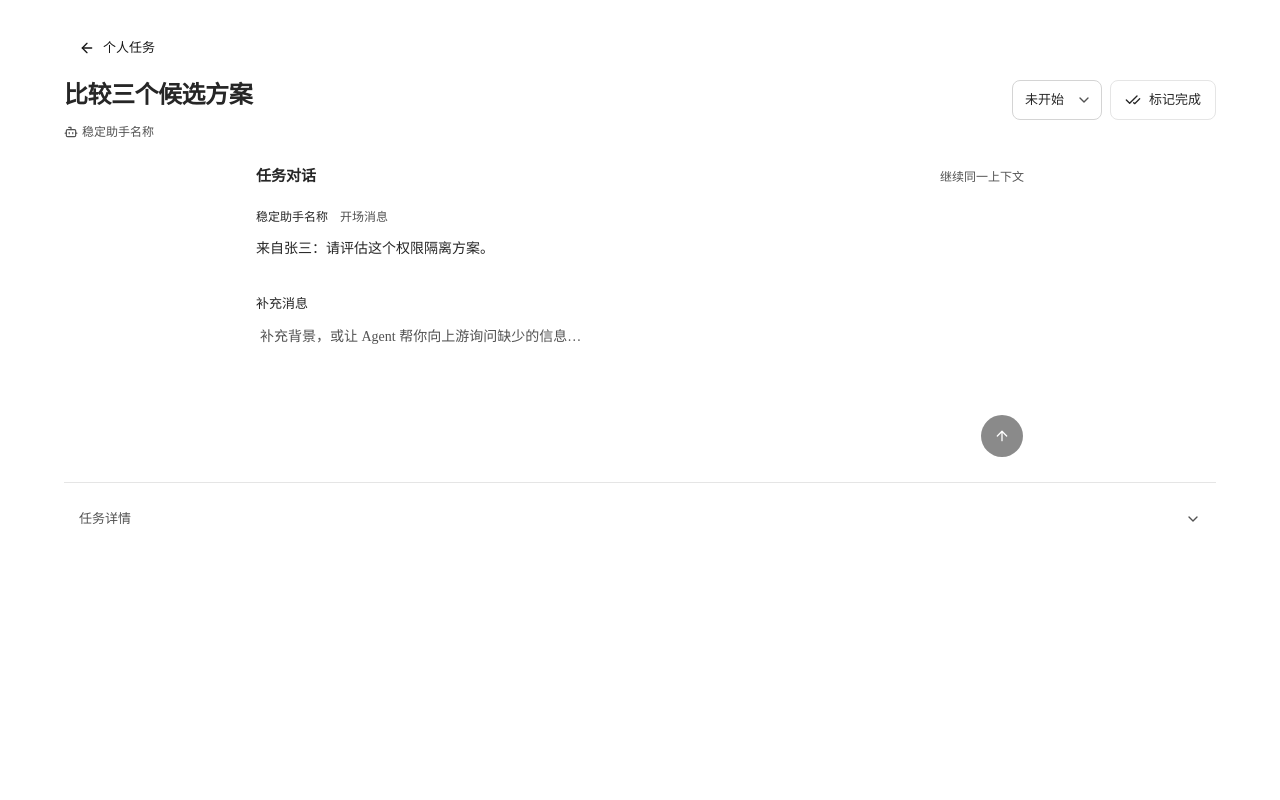
Test: shadcn task controls preserve task behavior › shows a received Agent opening before collapsed task details and accepts a natural language upstream request
The image size is (1280, 800).
Type "帮我问上游具体的复现步骤。" into the text box labelled "补充消息".
click(640, 362); type("帮我问上游具体的复现步骤。")  # box [256,322,1024,402]
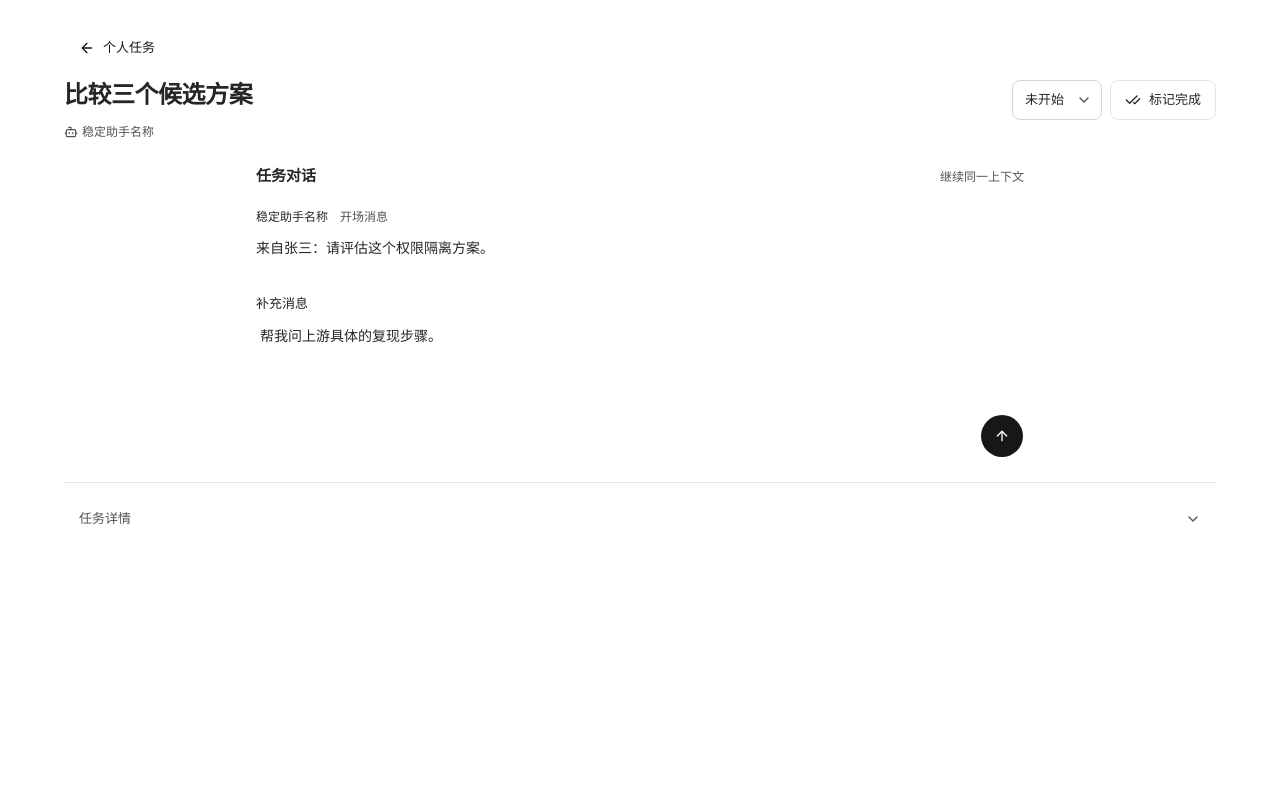
Click the button named "发送补充消息".
click(1002, 436)  # box [980,414,1024,458]
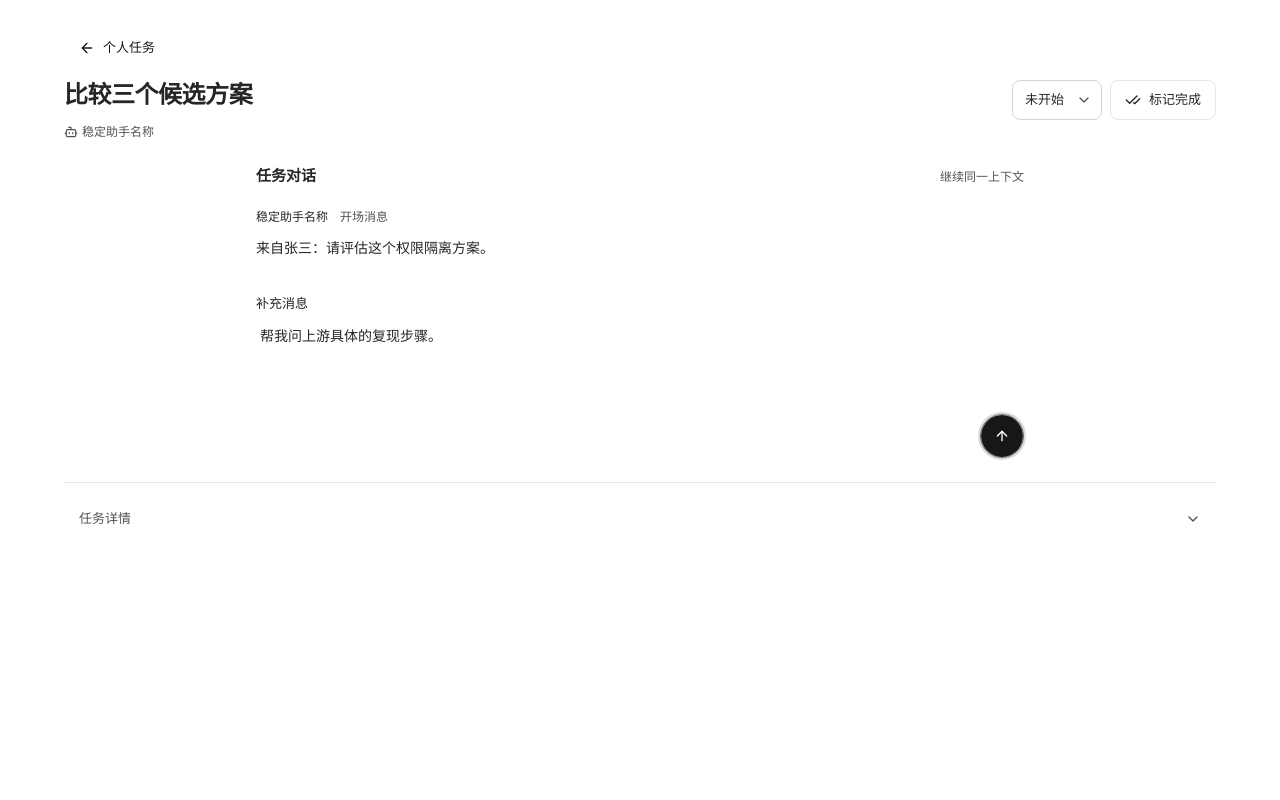
Click the button "任务详情".
click(105, 519)  # box [64,499,1216,539]
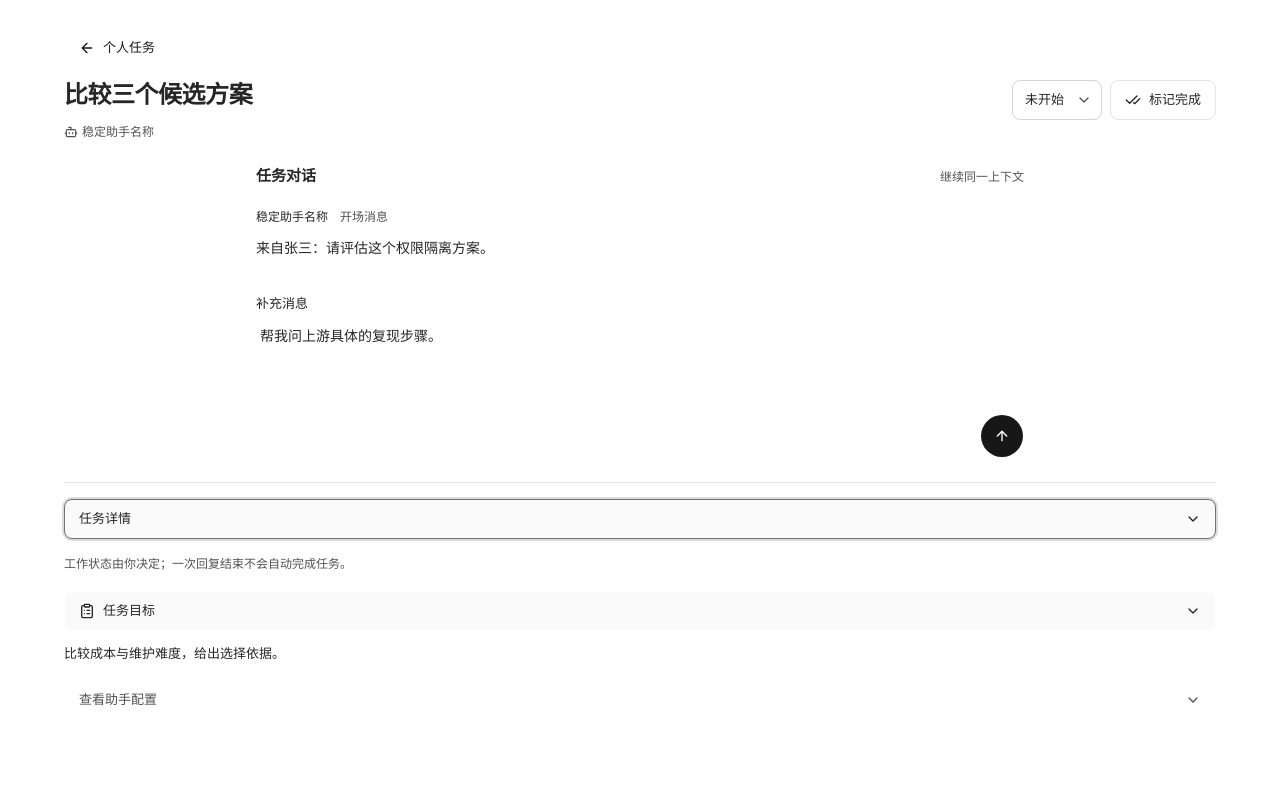
Now the button "任务详情" is expanded, box [64,499,1216,539]
